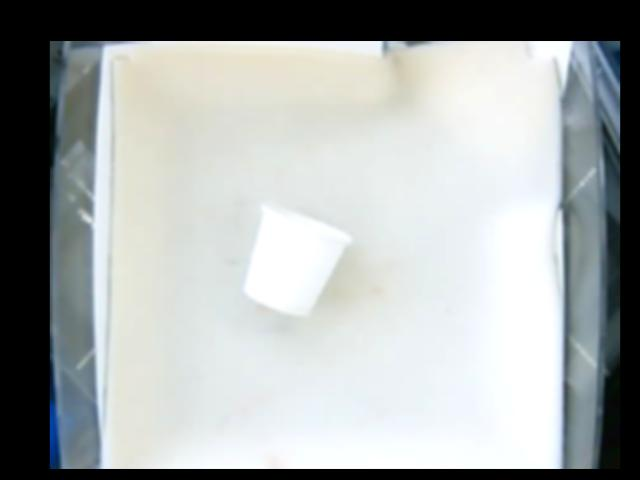Cup: (243, 204, 350, 315)
